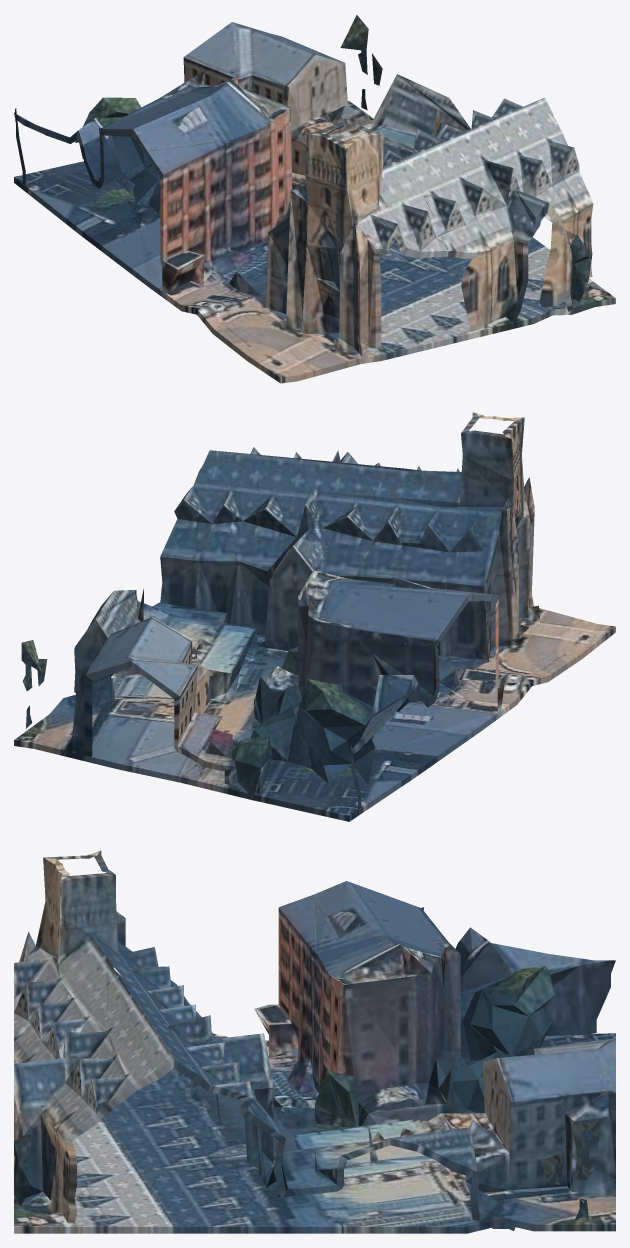
Rendered from chunk_5_2.glb.
3 views of the same model, one above another, from view 1: azimuth 30°, elevation 25°; view 2: azimuth 150°, elevation 25°; view 3: azimuth 270°, elevation 25° (orthographic). The views are drawn at different scales.
Visible parts, largest first — view 1: hero-chunk; view 2: hero-chunk; view 3: hero-chunk.
Part boxes in pixels (box(x1,y1,x2,y2)): hero-chunk: box(14, 15, 615, 383); hero-chunk: box(14, 412, 615, 821); hero-chunk: box(14, 850, 615, 1233).
Bounding box in the file's own units: 55.43 × 32.8 × 76.32.
Materials: 2 (2 with a texture image).
